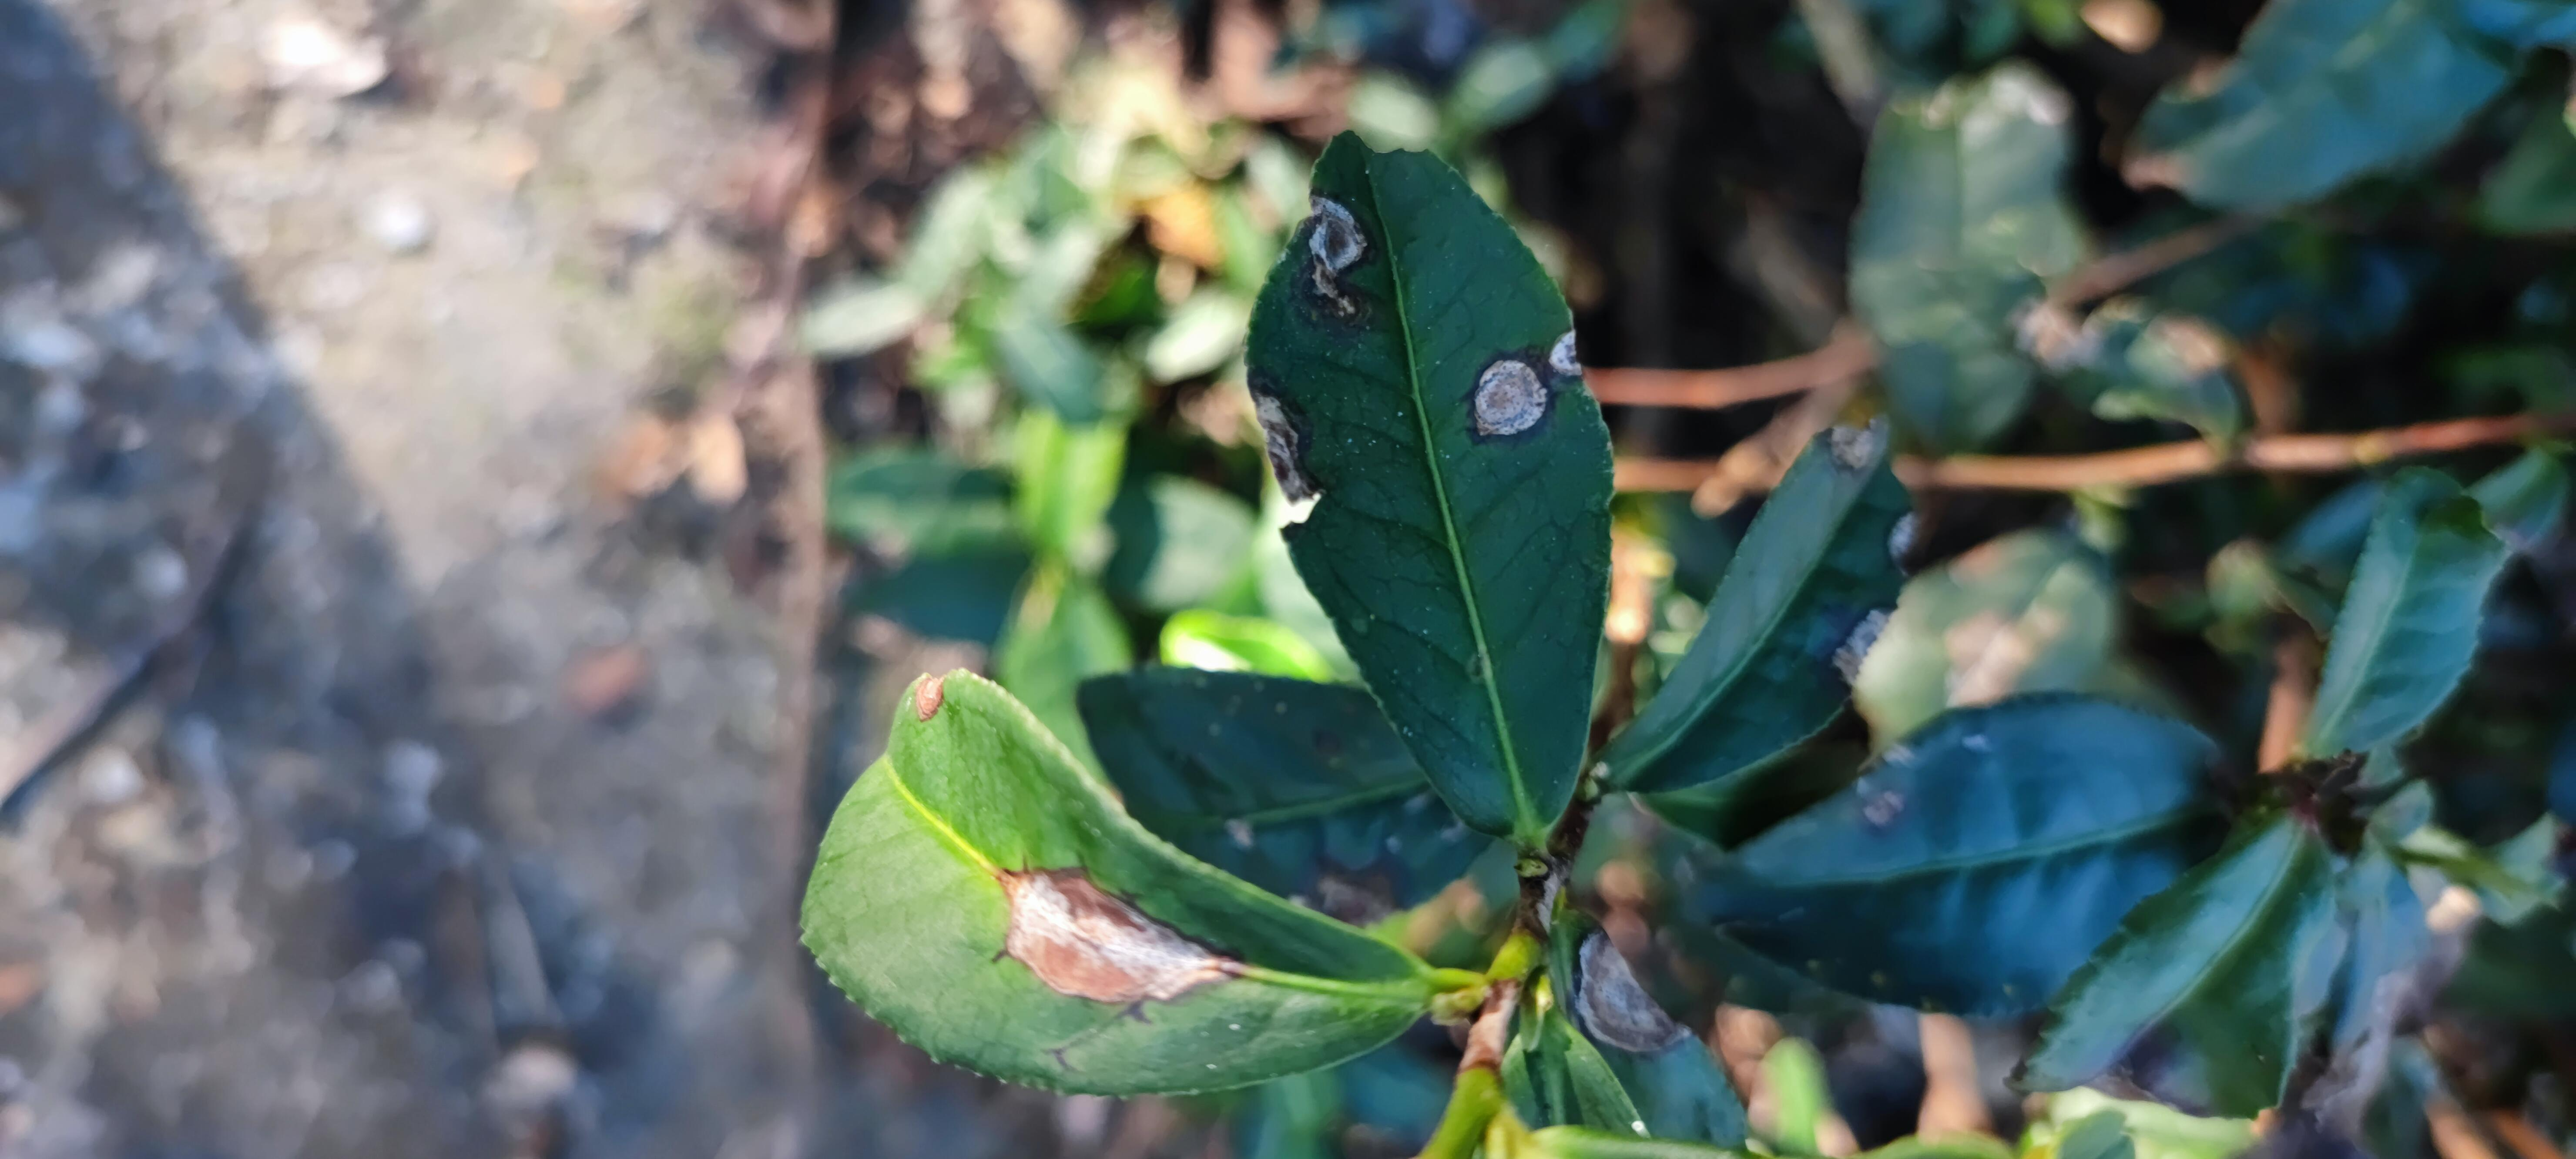tanju_high: (793, 671, 1441, 1102), (1240, 126, 1620, 845), (1672, 689, 2247, 1018), (1598, 419, 1927, 793)
